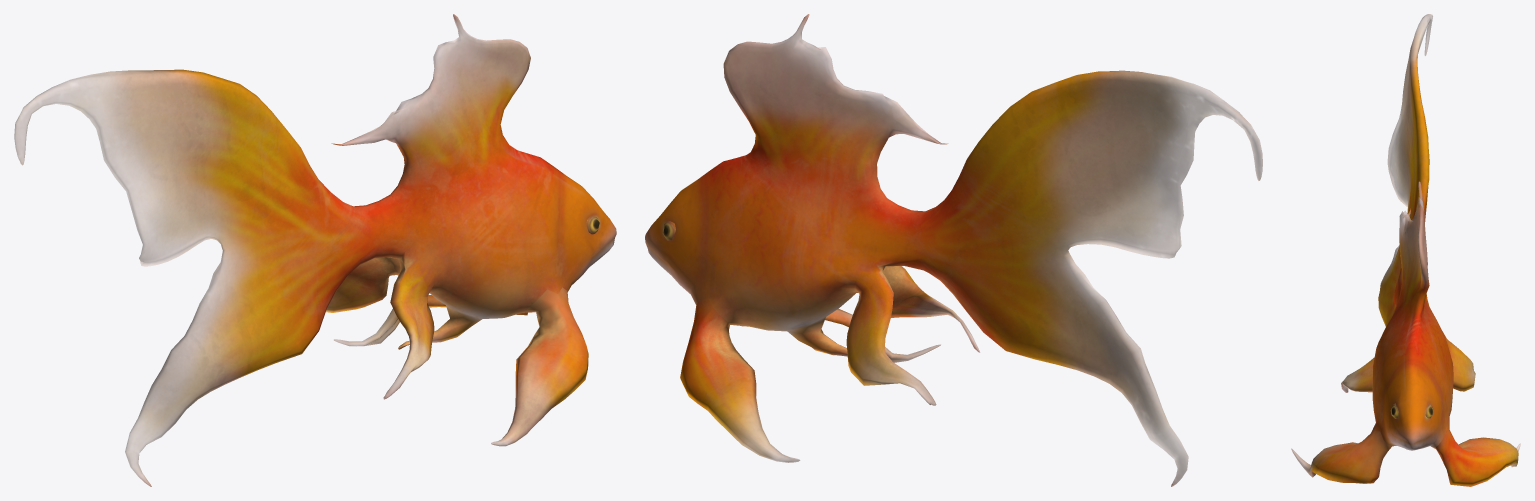
3 renders of one model, left to right at view 1: azimuth 30°, elevation 25°; view 2: azimuth 150°, elevation 25°; view 3: azimuth 270°, elevation 25°, orthographic. The views are drawn at different scales.
Visible parts, largest first — view 1: ZBrush_defualt_group__0; view 2: ZBrush_defualt_group__0; view 3: ZBrush_defualt_group__0.
Boxes of the visible parts, bbox=[...] form: ZBrush_defualt_group__0: bbox=[14, 14, 616, 486]; ZBrush_defualt_group__0: bbox=[645, 14, 1262, 486]; ZBrush_defualt_group__0: bbox=[1291, 14, 1520, 486].
Bounding box in the file's own units: 0.06 × 0.0394 × 0.0256.
Materials: 1 (1 with a texture image).
